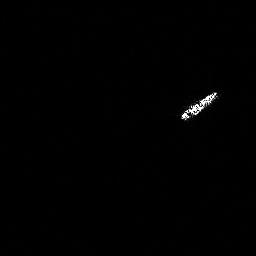ship: (179, 90, 219, 121)
